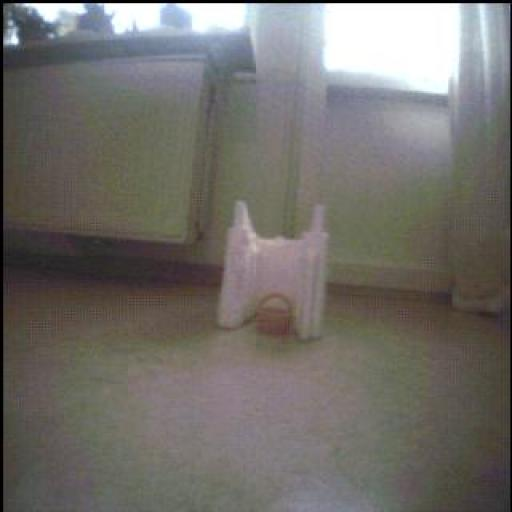Basket: (255, 294, 294, 337)
